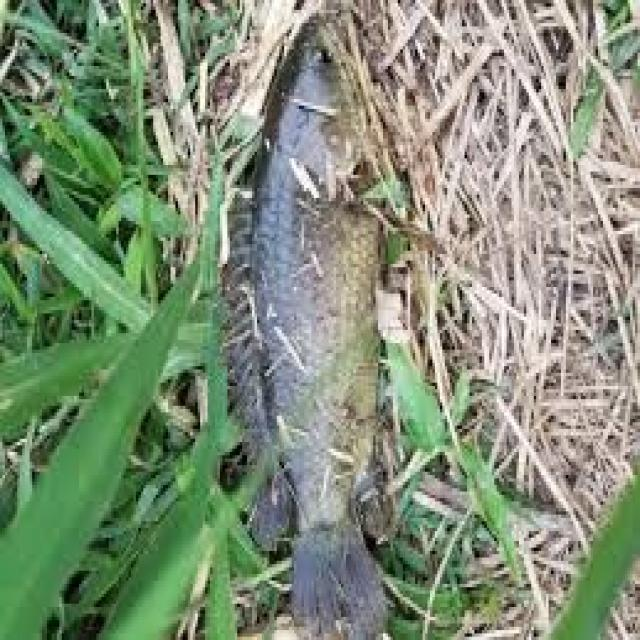Climbing-Perch: (219, 6, 437, 640)
